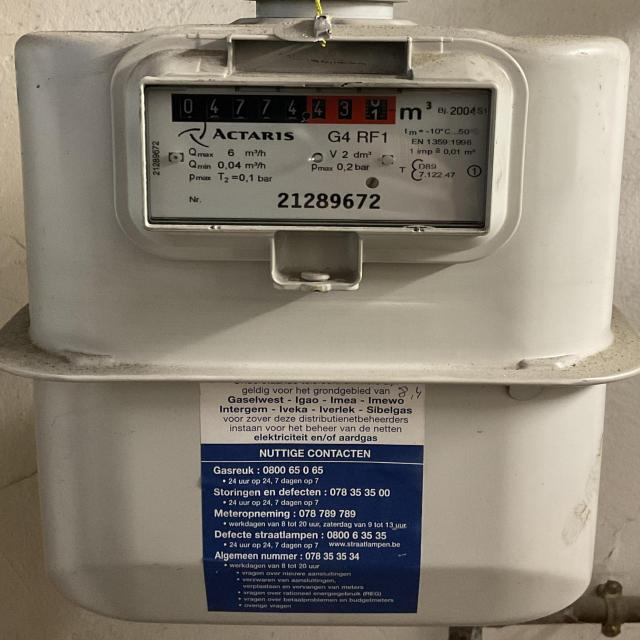gaz_meter: (143, 74, 492, 233)
indication: (171, 91, 398, 124)
